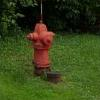a fire hydrant: (28, 22, 55, 79)
